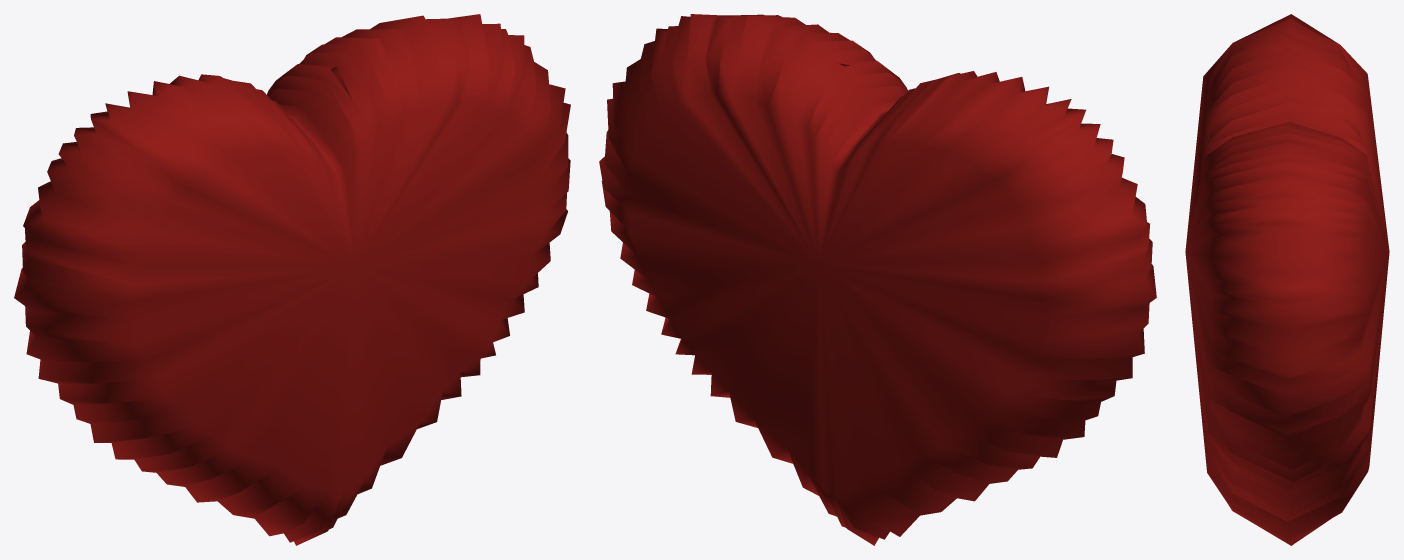
The model's file is balao.dae.
3 views of the same model, side by side, from view 1: azimuth 30°, elevation 25°; view 2: azimuth 150°, elevation 25°; view 3: azimuth 270°, elevation 25° (orthographic). The views are drawn at different scales.
Visible parts, largest first — view 1: pasted__bevelPolygon2; view 2: pasted__bevelPolygon2; view 3: pasted__bevelPolygon2.
Part boxes in pixels (box(x1,y1,x2,y2)): pasted__bevelPolygon2: box(14, 14, 570, 545); pasted__bevelPolygon2: box(599, 14, 1156, 545); pasted__bevelPolygon2: box(1185, 14, 1389, 545).
Bounding box in the file's own units: 0.7907 × 0.6774 × 0.2719.
